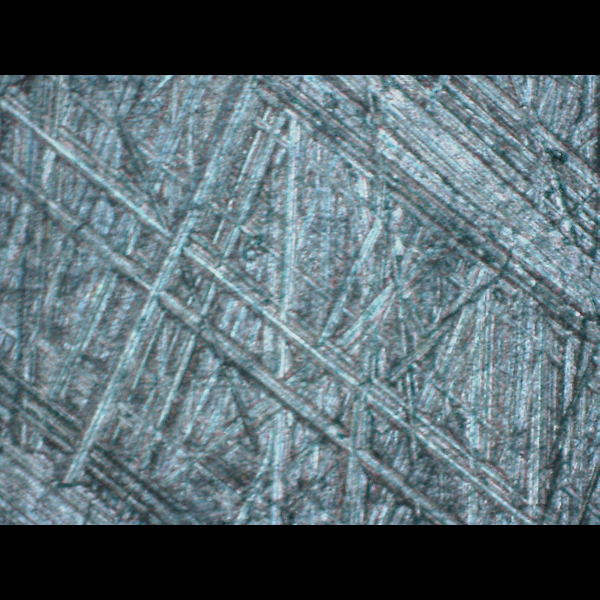d: (241, 76, 600, 349), (53, 84, 264, 489)
